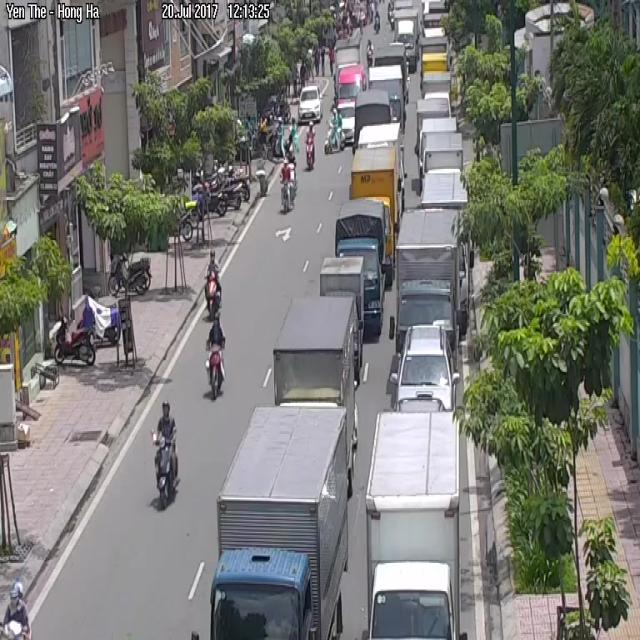car: (152, 403, 178, 505), (47, 319, 96, 366), (0, 581, 31, 639), (206, 319, 224, 399), (205, 252, 218, 311), (326, 110, 343, 153), (281, 161, 295, 212), (306, 121, 314, 169)
traffic-light: (391, 324, 457, 409), (299, 84, 322, 121), (337, 99, 354, 141)
truck: (210, 405, 350, 640), (363, 406, 463, 632), (392, 204, 462, 336), (332, 200, 386, 336)
